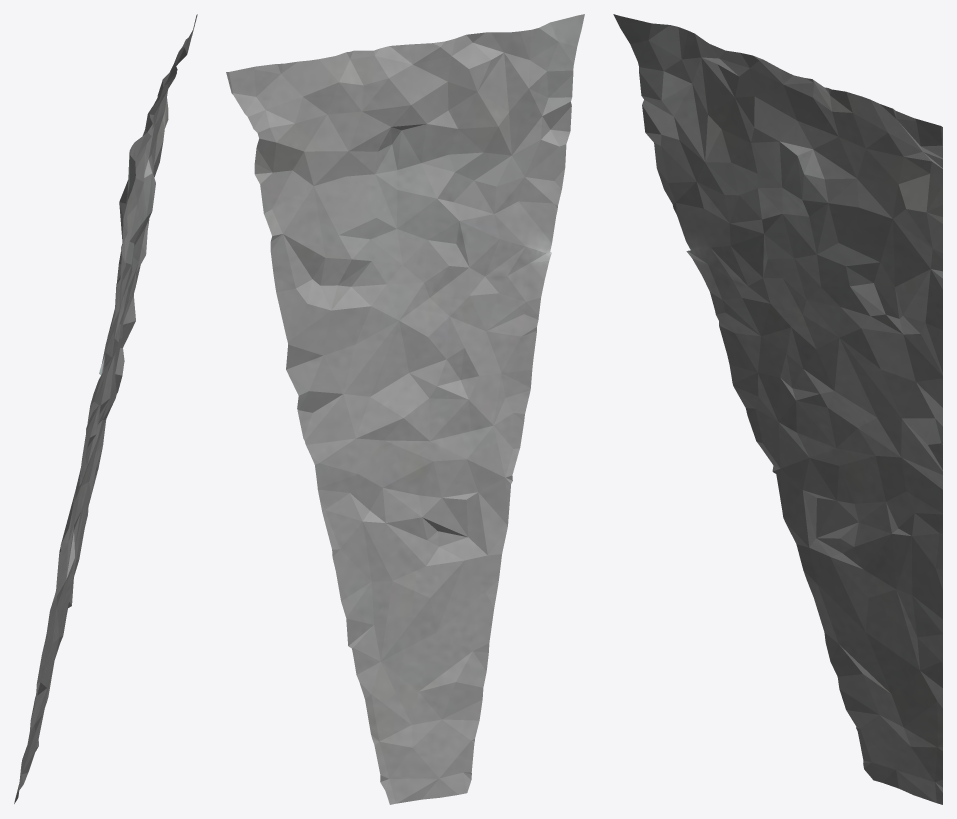
3 views of the same model, side by side, from view 1: azimuth 30°, elevation 25°; view 2: azimuth 150°, elevation 25°; view 3: azimuth 270°, elevation 25° (orthographic). The views are drawn at different scales.
Size of the model in its own units: 0.2653 by 0.8374 by 0.3266.
Materials: 1 (1 with a texture image).
